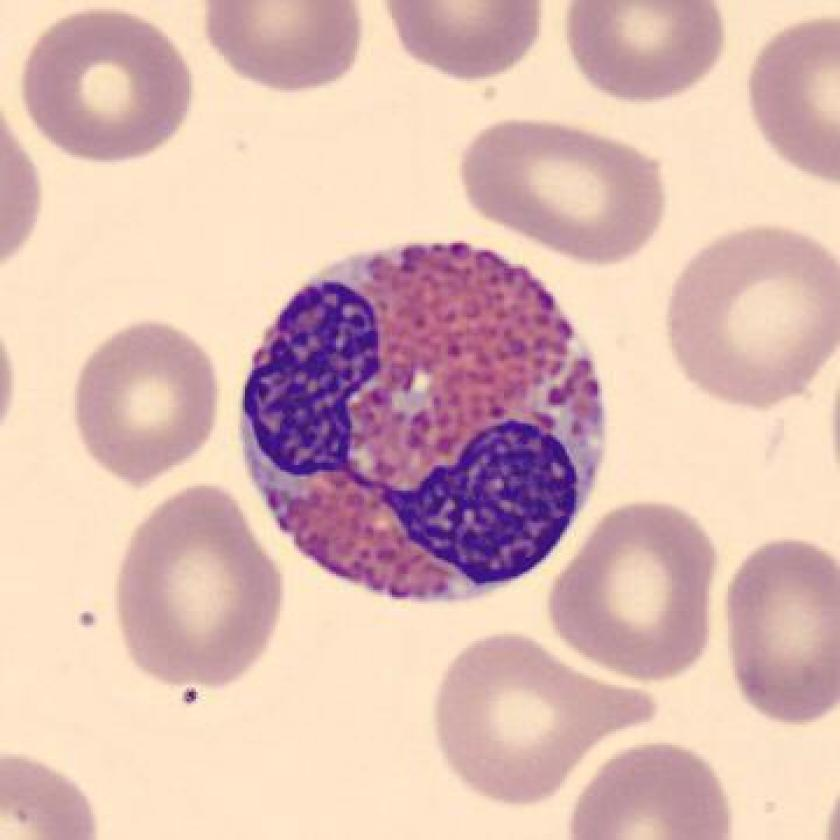eosinophil: (228, 225, 627, 619)
